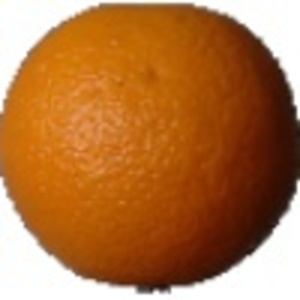laranja: (3, 3, 298, 296)
